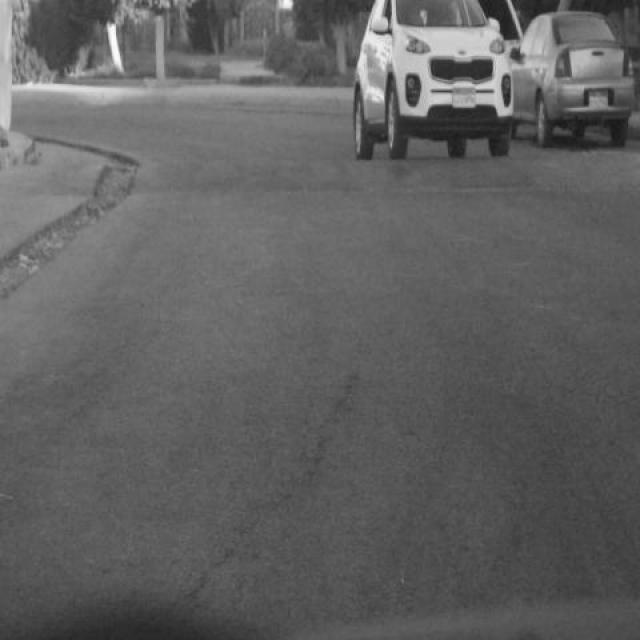Unmarked Bump: (132, 146, 639, 198)
